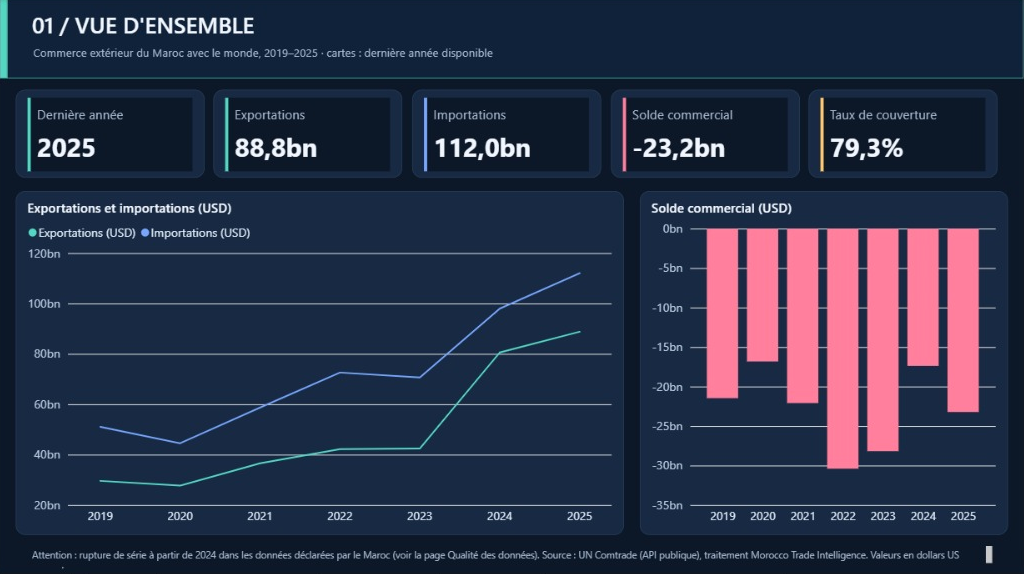

What the dashboard file says about the page in this screenshot:
{"tool":"powerbi","page":{"name":"Vue d'ensemble","canvas":[1280,720],"ordinal":0},"visuals":[{"type":"shape","box":[0,0,1280,100],"z":100},{"type":"shape","box":[0,0,10,100],"z":200},{"type":"textbox","box":[40,14,1100,44],"z":300},{"type":"textbox","box":[42,58,1180,30],"z":400},{"type":"textbox","box":[40,684,1200,28],"z":500},{"type":"cardVisual","fields":{"Data":["mart_trade_overview.Dernière année"]},"box":[20,114,236,110],"z":600},{"type":"cardVisual","fields":{"Data":["mart_trade_overview.Exportations"]},"box":[268,114,236,110],"z":700},{"type":"cardVisual","fields":{"Data":["mart_trade_overview.Importations"]},"box":[516,114,236,110],"z":800},{"type":"cardVisual","fields":{"Data":["mart_trade_overview.Solde commercial"]},"box":[764,114,236,110],"z":900},{"type":"cardVisual","fields":{"Data":["mart_trade_overview.Taux de couverture"]},"box":[1012,114,236,110],"z":1000},{"type":"lineChart","title":"Exportations et importations (USD)","fields":{"Category":["mart_trade_overview.year"],"Y":["mart_trade_overview.Exportations (USD)","mart_trade_overview.Importations (USD)"]},"box":[20,240,760,430],"z":1100},{"type":"clusteredColumnChart","title":"Solde commercial (USD)","fields":{"Category":["mart_trade_overview.year"],"Y":["mart_trade_overview.Solde commercial (USD)"]},"box":[800,240,460,430],"z":1200}]}

Visuals, with their boxes in screenshot pixels (x1, y1, x2, y2), scaled from the page's 1280x720 canvas onto the 1024x574 screenshot:
shape: box(0, 0, 1023, 80)
shape: box(0, 0, 8, 80)
textbox: box(32, 11, 912, 46)
textbox: box(34, 46, 978, 70)
textbox: box(32, 545, 992, 568)
cardVisual - mart_trade_overview.Dernière année: box(16, 91, 205, 179)
cardVisual - mart_trade_overview.Exportations: box(214, 91, 403, 179)
cardVisual - mart_trade_overview.Importations: box(413, 91, 602, 179)
cardVisual - mart_trade_overview.Solde commercial: box(611, 91, 800, 179)
cardVisual - mart_trade_overview.Taux de couverture: box(810, 91, 998, 179)
"Exportations et importations (USD)" lineChart: box(16, 191, 624, 534)
"Solde commercial (USD)" clusteredColumnChart: box(640, 191, 1008, 534)
